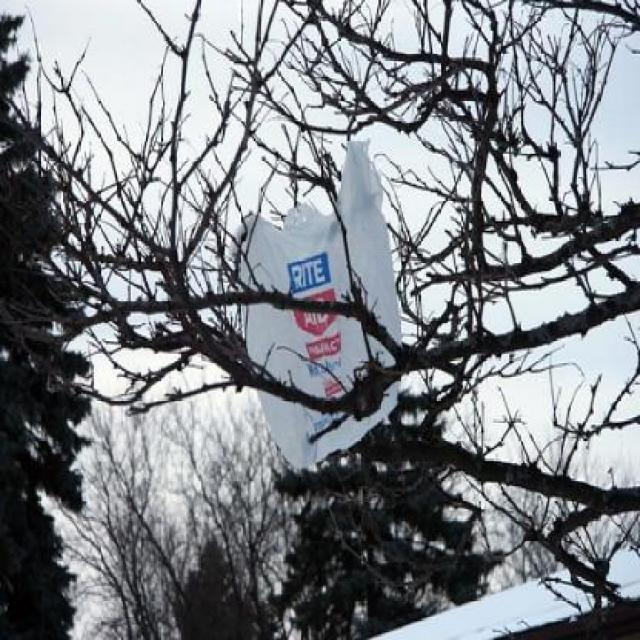plastic bag: (226, 137, 405, 465)
